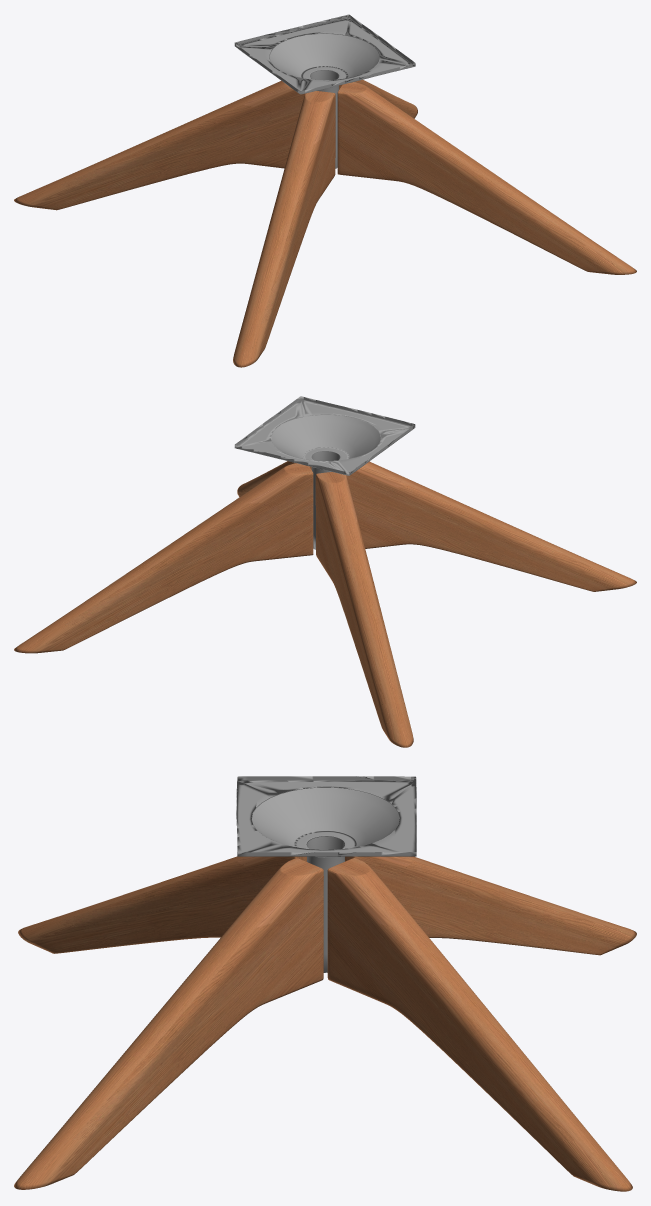
Rendered from Queen_Chair_L21_Leg.glb.
The picture shows the model from 3 angles, top to bottom: view 1: azimuth 30°, elevation 25°; view 2: azimuth 150°, elevation 25°; view 3: azimuth 270°, elevation 25°; orthographic projection. The views are drawn at different scales.
Parts seen in each view (by area): view 1: L21_Leg; view 2: L21_Leg; view 3: L21_Leg.
Boxes of the visible parts, x1=… form: L21_Leg: x1=14, y1=14, x2=636, y2=367; L21_Leg: x1=14, y1=396, x2=636, y2=747; L21_Leg: x1=14, y1=776, x2=636, y2=1191.
Bounding box in the file's own units: 61.86 × 26.95 × 61.86.
2 materials, 1 textured.
